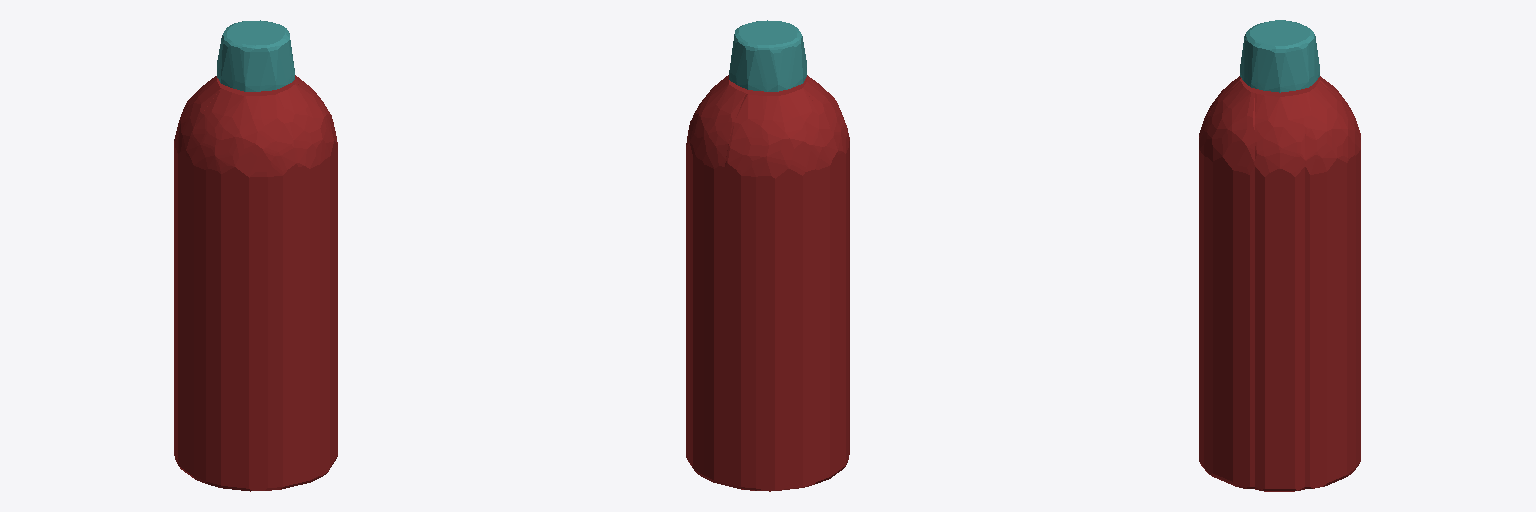
robot.urdf — root:
<robot name="root">
  <link name="bottle_body">
    <inertial>
      <origin xyz="0 0 0" rpy="0 0 0"/>
    </inertial>
    <mass value="1.00E-02"/>
    <visual>
      <origin xyz="0 0 0" rpy="0 0 0"/>
      <geometry>
        <mesh filename="core-bottle-3861b002979703fbed4f86beca49f32-coacd_convex_piece_1.obj" scale="1.0000E-01 1.0000E-01 1.0000E-01"/>
      </geometry>
      <material name="">
        <color rgba="6.00E-01 2.00E-01 2.00E-01 1"/>
      </material>
    </visual>
    <collision>
      <origin xyz="0 0 0" rpy="0 0 0"/>
      <geometry>
        <mesh filename="core-bottle-3861b002979703fbed4f86beca49f32-coacd_convex_piece_1.obj" scale="1.0000E-01 1.0000E-01 1.0000E-01"/>
      </geometry>
    </collision>
    <visual>
      <origin xyz="0 0 0" rpy="0 0 0"/>
      <geometry>
        <mesh filename="core-bottle-3861b002979703fbed4f86beca49f32-coacd_convex_piece_5.obj" scale="1.0000E-01 1.0000E-01 1.0000E-01"/>
      </geometry>
      <material name="">
        <color rgba="6.00E-01 2.00E-01 2.00E-01 1"/>
      </material>
    </visual>
    <collision>
      <origin xyz="0 0 0" rpy="0 0 0"/>
      <geometry>
        <mesh filename="core-bottle-3861b002979703fbed4f86beca49f32-coacd_convex_piece_5.obj" scale="1.0000E-01 1.0000E-01 1.0000E-01"/>
      </geometry>
    </collision>
    <visual>
      <origin xyz="0 0 0" rpy="0 0 0"/>
      <geometry>
        <mesh filename="core-bottle-3861b002979703fbed4f86beca49f32-coacd_convex_piece_2.obj" scale="1.0000E-01 1.0000E-01 1.0000E-01"/>
      </geometry>
      <material name="">
        <color rgba="6.00E-01 2.00E-01 2.00E-01 1"/>
      </material>
    </visual>
    <collision>
      <origin xyz="0 0 0" rpy="0 0 0"/>
      <geometry>
        <mesh filename="core-bottle-3861b002979703fbed4f86beca49f32-coacd_convex_piece_2.obj" scale="1.0000E-01 1.0000E-01 1.0000E-01"/>
      </geometry>
    </collision>
    <visual>
      <origin xyz="0 0 0" rpy="0 0 0"/>
      <geometry>
        <mesh filename="core-bottle-3861b002979703fbed4f86beca49f32-coacd_convex_piece_3.obj" scale="1.0000E-01 1.0000E-01 1.0000E-01"/>
      </geometry>
      <material name="">
        <color rgba="6.00E-01 2.00E-01 2.00E-01 1"/>
      </material>
    </visual>
    <collision>
      <origin xyz="0 0 0" rpy="0 0 0"/>
      <geometry>
        <mesh filename="core-bottle-3861b002979703fbed4f86beca49f32-coacd_convex_piece_3.obj" scale="1.0000E-01 1.0000E-01 1.0000E-01"/>
      </geometry>
    </collision>
    <visual>
      <origin xyz="0 0 0" rpy="0 0 0"/>
      <geometry>
        <mesh filename="core-bottle-3861b002979703fbed4f86beca49f32-coacd_convex_piece_4.obj" scale="1.0000E-01 1.0000E-01 1.0000E-01"/>
      </geometry>
      <material name="">
        <color rgba="6.00E-01 2.00E-01 2.00E-01 1"/>
      </material>
    </visual>
    <collision>
      <origin xyz="0 0 0" rpy="0 0 0"/>
      <geometry>
        <mesh filename="core-bottle-3861b002979703fbed4f86beca49f32-coacd_convex_piece_4.obj" scale="1.0000E-01 1.0000E-01 1.0000E-01"/>
      </geometry>
    </collision>
  </link>
  <link name="bottle_cap">
    <origin xyz="0 0 0.002" rpy="0 0 0"/>
    <mass value="1.00E-02"/>
    <visual>
      <origin xyz="0 0 0.002" rpy="0 0 0"/>
      <geometry>
        <mesh filename="core-bottle-3861b002979703fbed4f86beca49f32-coacd_convex_piece_0.obj" scale="1.0000E-01 1.0000E-01 1.0000E-01"/>
      </geometry>
      <material name="">
        <color rgba="3.00E-01 6.00E-01 6.00E-01 1"/>
      </material>
    </visual>
    <collision>
      <origin xyz="0 0 0.002" rpy="0 0 0"/>
      <geometry>
        <mesh filename="core-bottle-3861b002979703fbed4f86beca49f32-coacd_convex_piece_0.obj" scale="1.0000E-01 1.0000E-01 1.0000E-01"/>
      </geometry>
    </collision>
  </link>
  <joint name="bottle_cap_joint" type="revolute">
    <origin xyz="0 0 0" rpy="0 0 0"/>
    <parent link="bottle_body"/>
    <child link="bottle_cap"/>
    <axis xyz="0 0 1"/>
    <limit lower="0.00" upper="6.28"/>
    <dynamics damping="0.05"/>
  </joint>
</robot>

--- Facts derived from the render (not from the file) ---
The picture shows the robot from 3 angles, left to right: view 1: azimuth 30°, elevation 25°; view 2: azimuth 150°, elevation 25°; view 3: azimuth 270°, elevation 25°; orthographic projection.
Robot: root — 2 links, 1 joints (1 revolute); root link bottle_body; default pose: all joints at 0.
Visible links, largest first — view 1: bottle_body, bottle_cap; view 2: bottle_body, bottle_cap; view 3: bottle_body, bottle_cap.
Boxes of the visible links, left/top/right/bottom form: bottle_body: left=174, top=75, right=337, bottom=491; bottle_cap: left=217, top=20, right=294, bottom=91; bottle_body: left=686, top=75, right=849, bottom=491; bottle_cap: left=729, top=20, right=806, bottom=91; bottle_body: left=1199, top=76, right=1360, bottom=491; bottle_cap: left=1240, top=20, right=1319, bottom=92.
Size in the robot's own frame: 0.0646 by 0.0646 by 0.1876 metres.
Meshes: 6 distinct files referenced, 6 mesh visuals loaded (6 OBJ).
